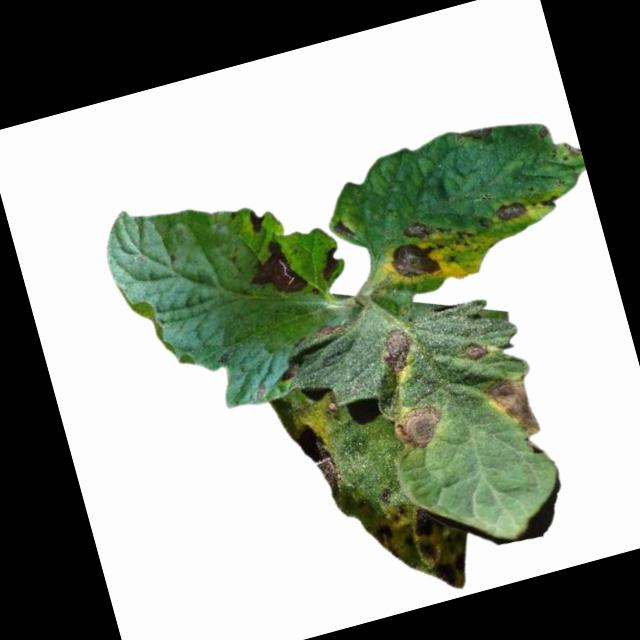Early_blight: (241, 233, 310, 301), (480, 370, 544, 443), (293, 418, 346, 503), (416, 530, 477, 597), (387, 235, 450, 287), (391, 400, 448, 455), (375, 323, 420, 376), (372, 523, 401, 563), (408, 501, 438, 539), (317, 244, 347, 280), (313, 316, 355, 340), (493, 197, 528, 224), (399, 217, 435, 242), (454, 123, 494, 145), (460, 336, 490, 365), (277, 356, 306, 382), (245, 207, 267, 236), (536, 190, 560, 212)
